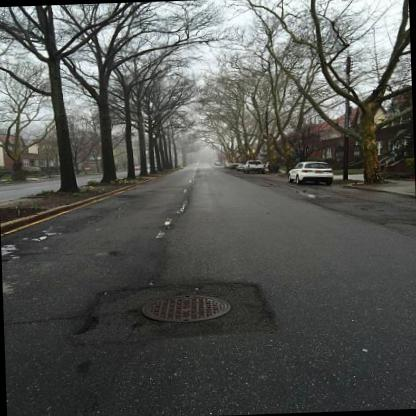manholes: (120, 283, 240, 343)
